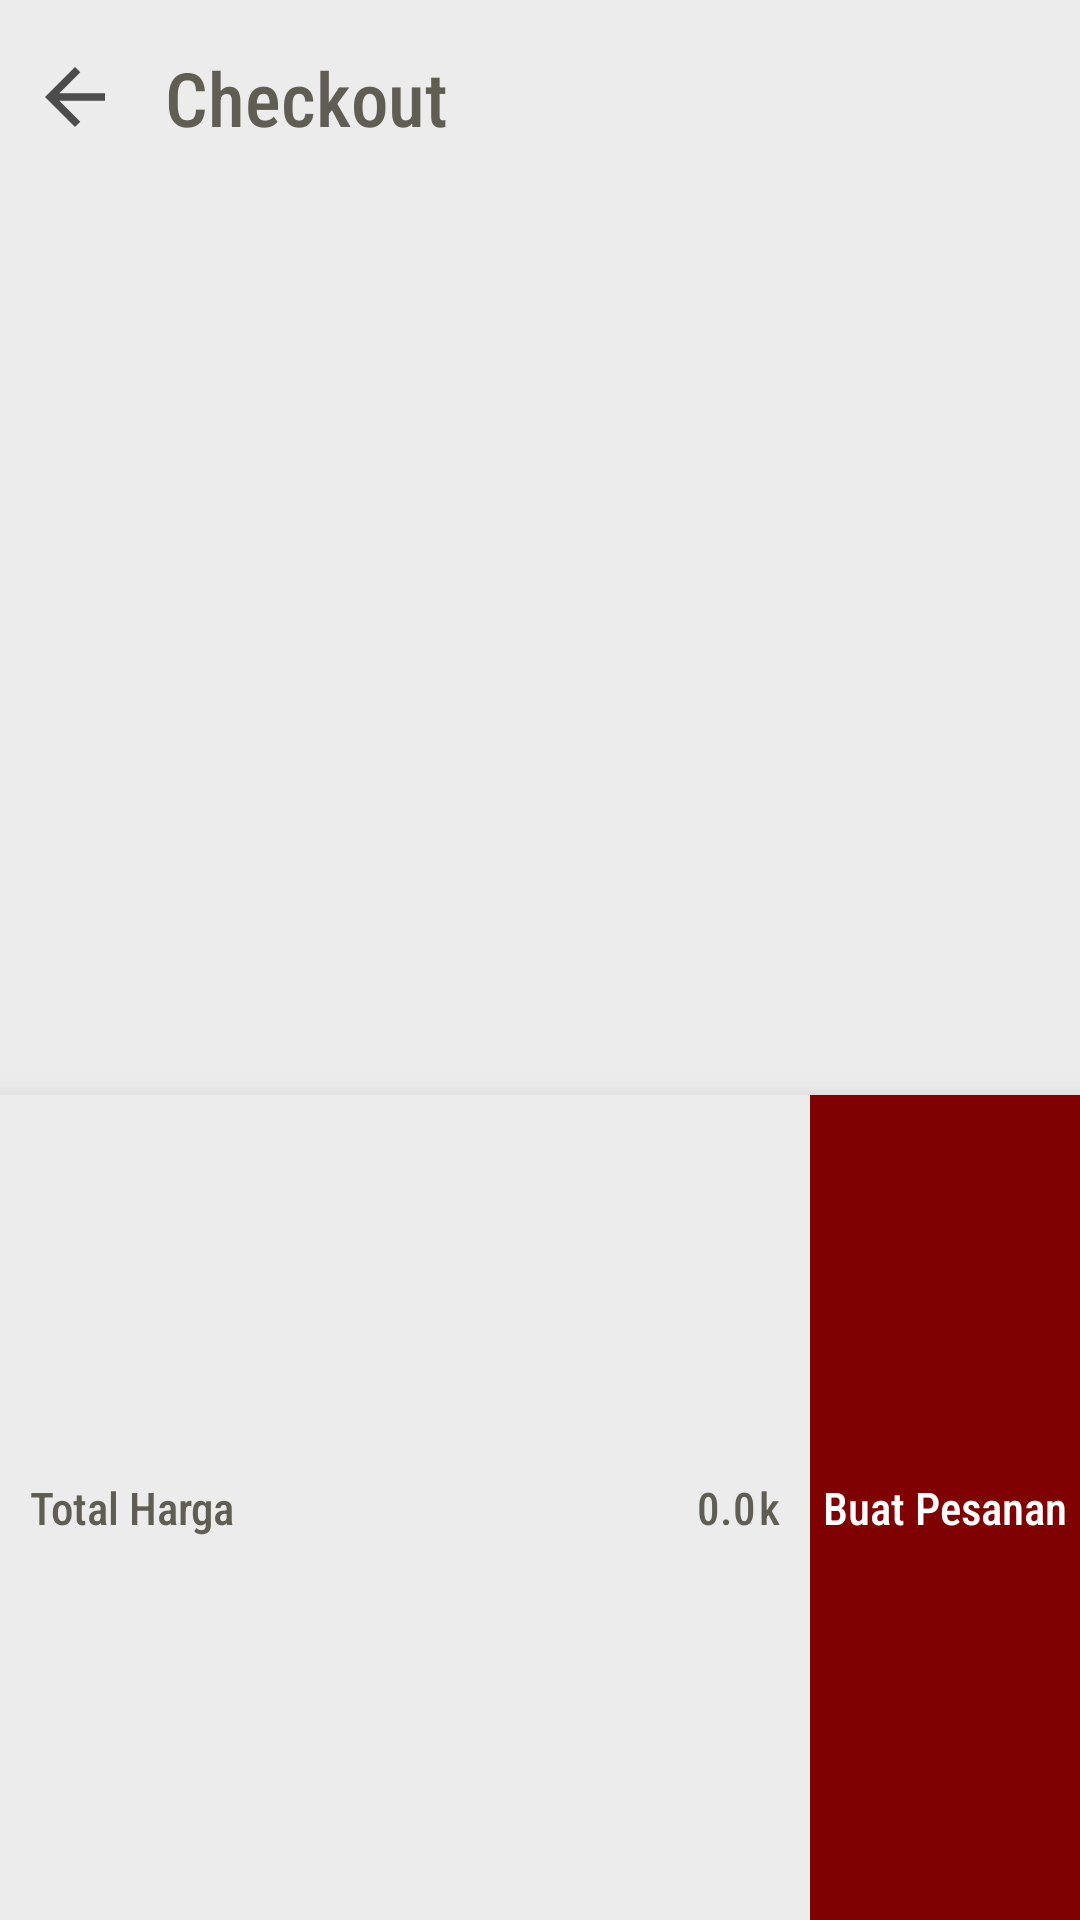

Point at icon controls on the screen. Image size 1080x1920, points as [x,y].
arrowback garis: [75,97]
